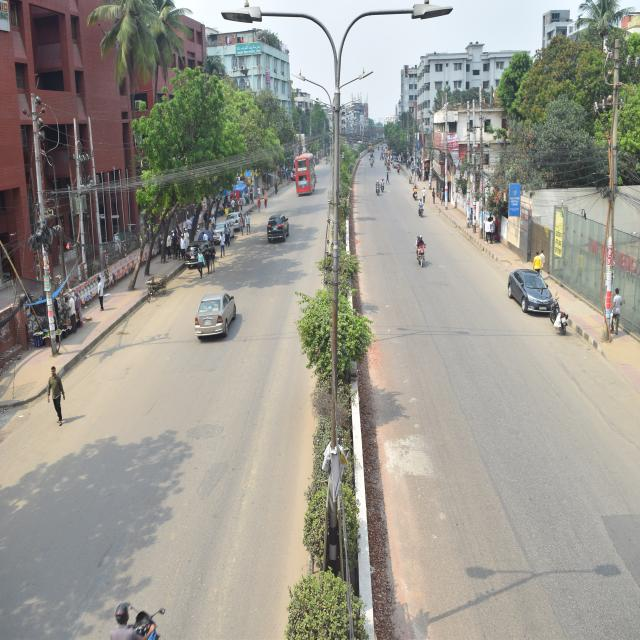bus: (291, 148, 320, 202)
car: (497, 260, 556, 322), (196, 286, 240, 341), (264, 200, 294, 249), (182, 239, 208, 270), (225, 205, 248, 234), (209, 221, 230, 246)
motorbike: (548, 290, 574, 338), (413, 232, 426, 268), (420, 197, 426, 220), (373, 181, 382, 195)
